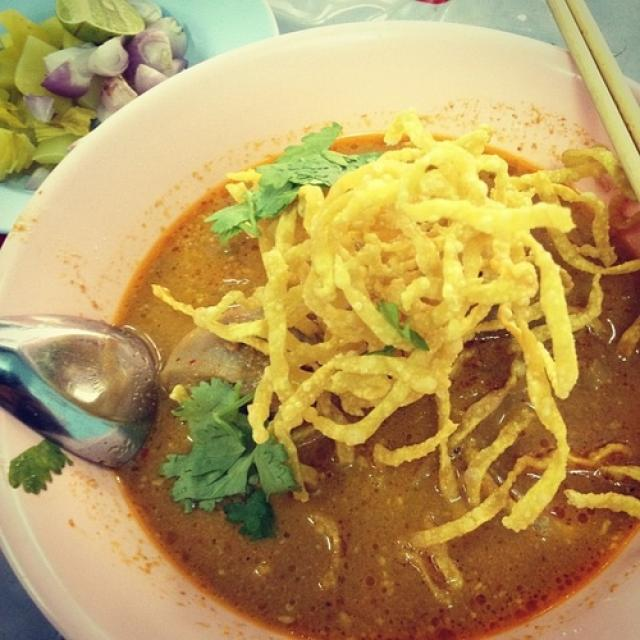面条主食: (33, 42, 631, 628)
